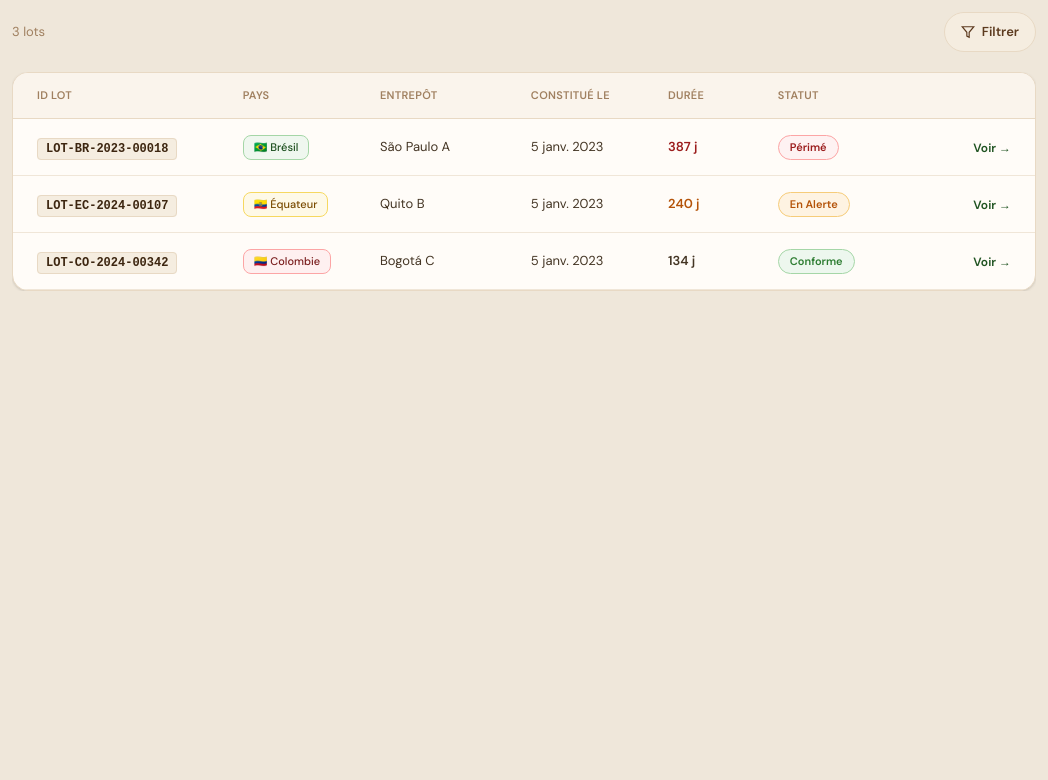
Test: LotsView › opens a read-only detail view with the lot journey
Click the text "LOT-BR-2023-00018".
click(524, 148)  # box [13,119,1035,176]
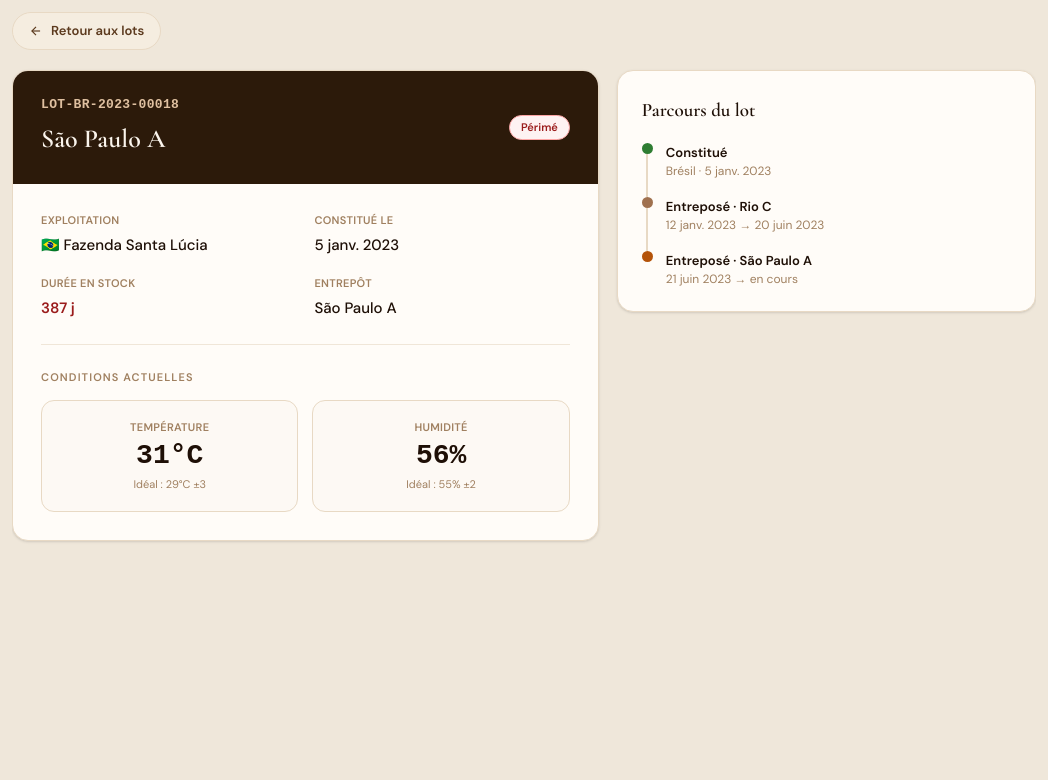
Result: the button "Retour aux lots" is shown at [12,12,161,50]
Result: the heading "Parcours du lot" is shown at [642,98,756,121]
